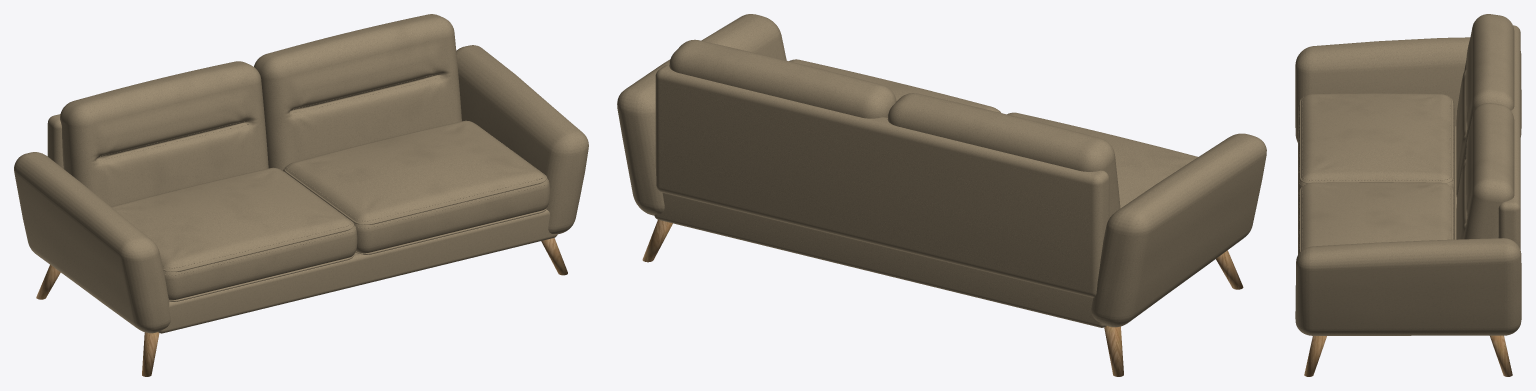
Rendered from beige-leather-sofa.glb.
3 renders of one model, left to right at view 1: azimuth 30°, elevation 25°; view 2: azimuth 150°, elevation 25°; view 3: azimuth 270°, elevation 25°, orthographic. The views are drawn at different scales.
Parts seen in each view (by area): view 1: back1, back0, seat1, seat0, armL, base, armR, seatpipe11, backpanel, seatpipe01, leg0, seatpipe10 (+1 smaller); view 2: backpanel, armL, base, back0, back1, armR, seat0, seat1, leg2, leg3; view 3: armR, seat0, seat1, armL, back1, back0, backpanel, leg3, leg1, seatpipe01, seatpipe11, base.
Boxes of the visible parts, x1=… form: back1: x1=254, y1=14, x2=461, y2=170; back0: x1=60, y1=61, x2=268, y2=206; seat1: x1=283, y1=120, x2=549, y2=253; seat0: x1=111, y1=167, x2=357, y2=300; armL: x1=14, y1=152, x2=170, y2=333; base: x1=158, y1=209, x2=557, y2=333; armR: x1=456, y1=45, x2=588, y2=234; seatpipe11: x1=284, y1=126, x2=546, y2=224; backpanel: x1=47, y1=114, x2=63, y2=168; seatpipe01: x1=163, y1=171, x2=354, y2=271; leg0: x1=142, y1=332, x2=159, y2=376; seatpipe10: x1=355, y1=208, x2=546, y2=254; backpanel: x1=655, y1=65, x2=1109, y2=297; armL: x1=1091, y1=133, x2=1266, y2=327; base: x1=654, y1=192, x2=1106, y2=327; back0: x1=887, y1=93, x2=1120, y2=218; back1: x1=669, y1=39, x2=896, y2=118; armR: x1=617, y1=14, x2=786, y2=215; seat0: x1=1007, y1=112, x2=1197, y2=208; seat1: x1=789, y1=59, x2=1000, y2=112; leg2: x1=1104, y1=326, x2=1123, y2=376; leg3: x1=642, y1=220, x2=672, y2=262; armR: x1=1295, y1=238, x2=1521, y2=335; seat0: x1=1298, y1=93, x2=1454, y2=195; seat1: x1=1298, y1=182, x2=1454, y2=254; armL: x1=1295, y1=37, x2=1521, y2=142; back1: x1=1456, y1=103, x2=1514, y2=239; back0: x1=1456, y1=14, x2=1514, y2=198; backpanel: x1=1498, y1=25, x2=1520, y2=249; leg3: x1=1490, y1=335, x2=1512, y2=376; leg1: x1=1304, y1=336, x2=1326, y2=376; seatpipe01: x1=1299, y1=98, x2=1453, y2=183; seatpipe11: x1=1299, y1=186, x2=1453, y2=252; base: x1=1455, y1=126, x2=1456, y2=239.
Bounding box in the file's own units: 2.08 × 0.8225 × 0.9198.
3 materials, 2 textured.
